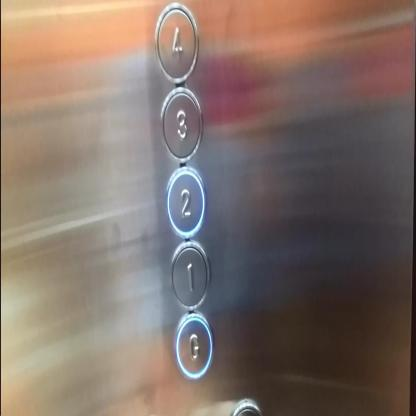1: (170, 240, 210, 310)
2: (165, 166, 206, 238)
3: (160, 86, 203, 163)
4: (154, 0, 199, 84)
G: (174, 310, 214, 381)
